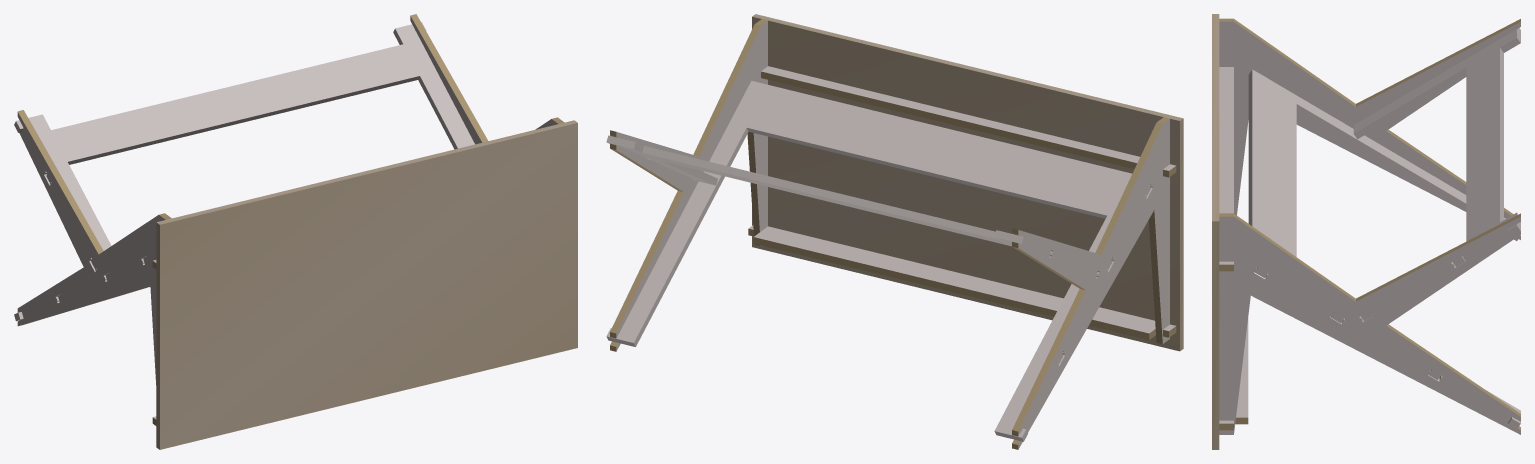
Rendered from NODO_ESCRITORIO_ESCULTORICO_PARAISO_FINAL_SIN_ENCASTRES.glb.
The picture shows the model from 3 angles, left to right: view 1: azimuth 30°, elevation 25°; view 2: azimuth 150°, elevation 25°; view 3: azimuth 270°, elevation 25°; orthographic projection. The views are drawn at different scales.
Visible parts, largest first — view 1: G_Tapa_Superior_LIMPIA, B_Escuadra_Trasera_canto, D_Lateral_Izq_cuerpo, D_Lateral_Izq_canto_perimetro_2, C_Lateral_Der_canto_perimetro_2, C_Lateral_Der_cuerpo; view 2: G_Tapa_Superior_LIMPIA, A_Escuadra_Delantera_canto, D_Lateral_Izq_cuerpo, C_Lateral_Der_cuerpo, F_Traba_Delantera_cuerpo, B_Escuadra_Trasera_canto, D_Lateral_Izq_canto_perimetro_2, C_Lateral_Der_canto_perimetro_2, E_Traba_Trasera_cuerpo, E_Traba_Trasera_canto, F_Traba_Delantera_canto; view 3: C_Lateral_Der_cuerpo, D_Lateral_Izq_cuerpo, A_Escuadra_Delantera_canto, B_Escuadra_Trasera_canto, G_Tapa_Superior_LIMPIA, E_Traba_Trasera_cuerpo, C_Lateral_Der_canto_perimetro_2, D_Lateral_Izq_canto_perimetro_2, F_Traba_Delantera_cuerpo.
Part boxes in pixels (bbox=[...]): G_Tapa_Superior_LIMPIA: bbox=[156, 120, 577, 449]; B_Escuadra_Trasera_canto: bbox=[14, 22, 474, 269]; D_Lateral_Izq_cuerpo: bbox=[17, 112, 165, 384]; D_Lateral_Izq_canto_perimetro_2: bbox=[17, 110, 171, 325]; C_Lateral_Der_canto_perimetro_2: bbox=[410, 14, 564, 142]; C_Lateral_Der_cuerpo: bbox=[410, 16, 557, 144]; G_Tapa_Superior_LIMPIA: bbox=[752, 14, 1183, 351]; A_Escuadra_Delantera_canto: bbox=[606, 80, 1150, 441]; D_Lateral_Izq_cuerpo: bbox=[1018, 119, 1169, 449]; C_Lateral_Der_cuerpo: bbox=[616, 21, 767, 351]; F_Traba_Delantera_cuerpo: bbox=[749, 225, 1175, 333]; B_Escuadra_Trasera_canto: bbox=[606, 135, 1097, 277]; D_Lateral_Izq_canto_perimetro_2: bbox=[1012, 117, 1169, 449]; C_Lateral_Der_canto_perimetro_2: bbox=[610, 19, 767, 351]; E_Traba_Trasera_cuerpo: bbox=[761, 66, 1175, 170]; E_Traba_Trasera_canto: bbox=[761, 71, 1176, 177]; F_Traba_Delantera_canto: bbox=[748, 228, 1176, 339]; C_Lateral_Der_cuerpo: bbox=[1219, 216, 1520, 434]; D_Lateral_Izq_cuerpo: bbox=[1219, 21, 1520, 239]; A_Escuadra_Delantera_canto: bbox=[1248, 69, 1520, 428]; B_Escuadra_Trasera_canto: bbox=[1353, 28, 1520, 320]; G_Tapa_Superior_LIMPIA: bbox=[1212, 14, 1219, 449]; E_Traba_Trasera_cuerpo: bbox=[1219, 67, 1233, 264]; C_Lateral_Der_canto_perimetro_2: bbox=[1219, 213, 1520, 429]; D_Lateral_Izq_canto_perimetro_2: bbox=[1219, 18, 1520, 215]; F_Traba_Delantera_cuerpo: bbox=[1219, 318, 1248, 423].
Size of what is drawn, in the model's own units: 1.22 by 0.628 by 0.7681.
